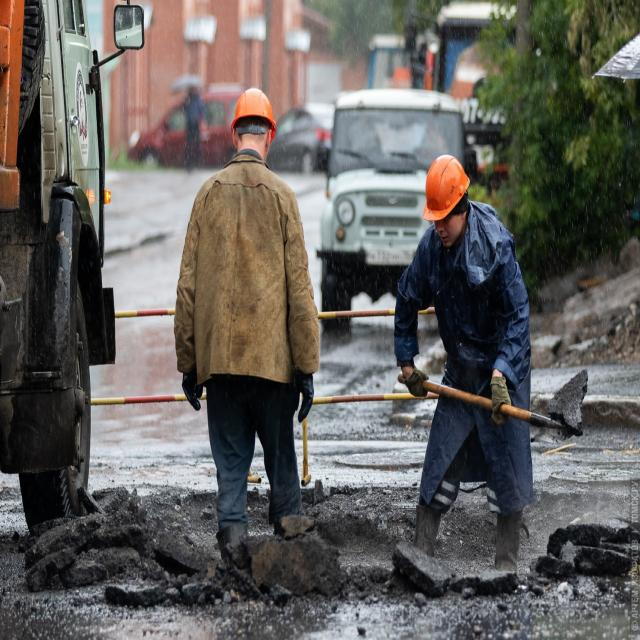Helmet: (423, 155, 472, 227), (231, 87, 276, 135)
NoJacket: (204, 155, 289, 380), (434, 222, 502, 382)
